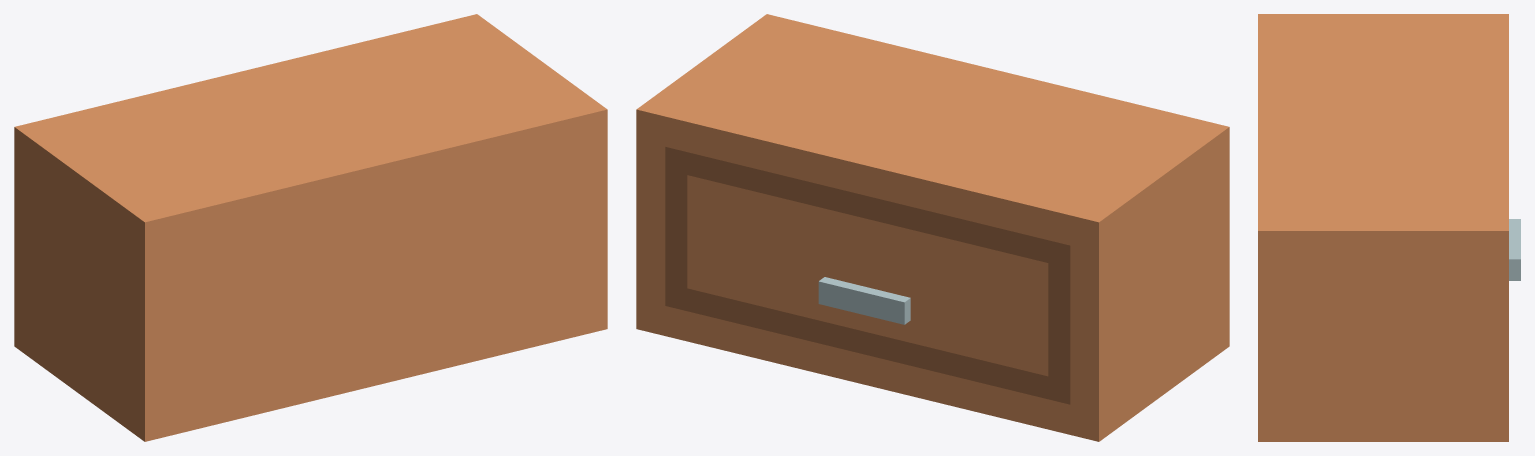
Rendered from kitchenCabinetUpperLow.fbx.
3 views of the same model, side by side, from view 1: azimuth 30°, elevation 25°; view 2: azimuth 150°, elevation 25°; view 3: azimuth 270°, elevation 25° (orthographic). The views are drawn at different scales.
Parts seen in each view (by area): view 1: kitchenCabinetUpperLow; view 2: kitchenCabinetUpperLow, door; view 3: kitchenCabinetUpperLow, door.
Boxes of the visible parts, x1=… form: kitchenCabinetUpperLow: x1=14, y1=14, x2=607, y2=441; kitchenCabinetUpperLow: x1=636, y1=14, x2=1229, y2=441; door: x1=665, y1=147, x2=1070, y2=404; kitchenCabinetUpperLow: x1=1258, y1=14, x2=1508, y2=441; door: x1=1509, y1=219, x2=1520, y2=280.
Bounding box in the file's own units: 4.3 × 1.95 × 2.2.
